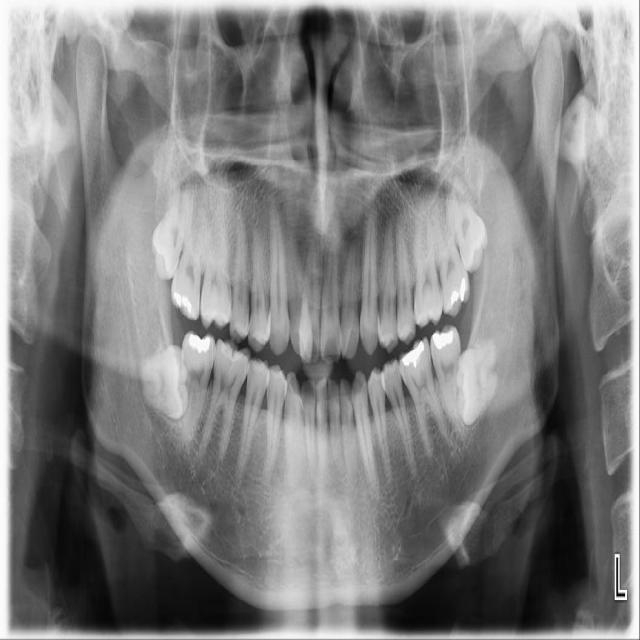Filling: (167, 287, 197, 319), (183, 331, 213, 353), (401, 341, 426, 367), (448, 278, 467, 311), (430, 328, 456, 349), (220, 342, 244, 363), (248, 359, 267, 373)
impacted tooth: (456, 331, 498, 422), (138, 345, 185, 420)
